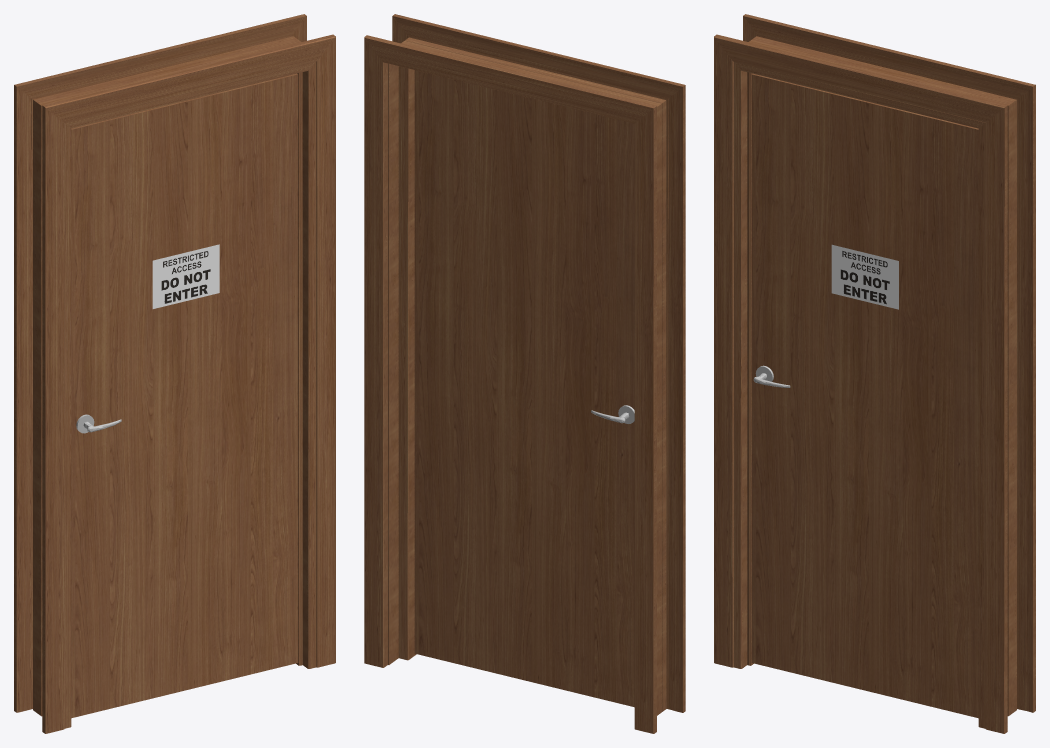
The model's file is Door 2.FBX.
The picture shows the model from 3 angles, left to right: view 1: azimuth 30°, elevation 25°; view 2: azimuth 150°, elevation 25°; view 3: azimuth 330°, elevation 25°; orthographic projection.
Visible parts, largest first — view 1: door, frame door, Picture; view 2: door, frame door; view 3: door, frame door, Picture.
Boxes of the visible parts, left/top/right/bottom form: door: left=71, top=73, right=298, bottom=718; frame door: left=14, top=14, right=335, bottom=733; Picture: left=152, top=244, right=219, bottom=308; door: left=414, top=70, right=634, bottom=707; frame door: left=364, top=14, right=685, bottom=733; door: left=751, top=73, right=978, bottom=718; frame door: left=714, top=14, right=1035, bottom=733; Picture: left=831, top=244, right=898, bottom=309.
Size of the model in its own units: 40.55 by 8.38 by 83.46.
